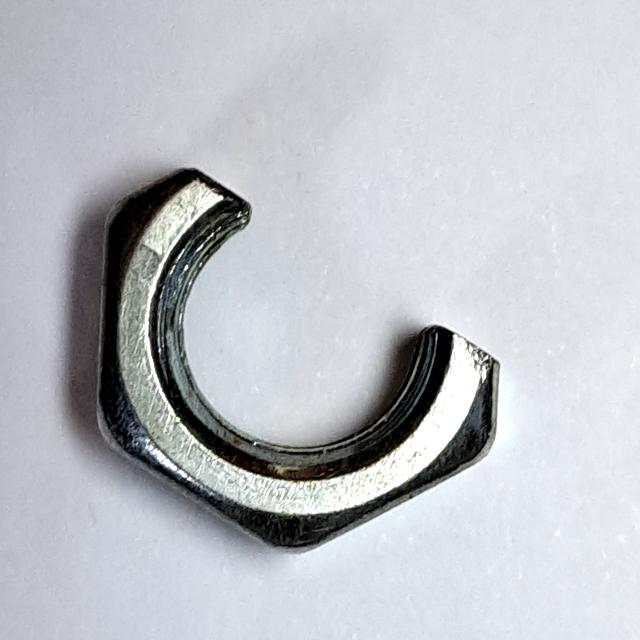Fracture: (77, 158, 518, 570)
